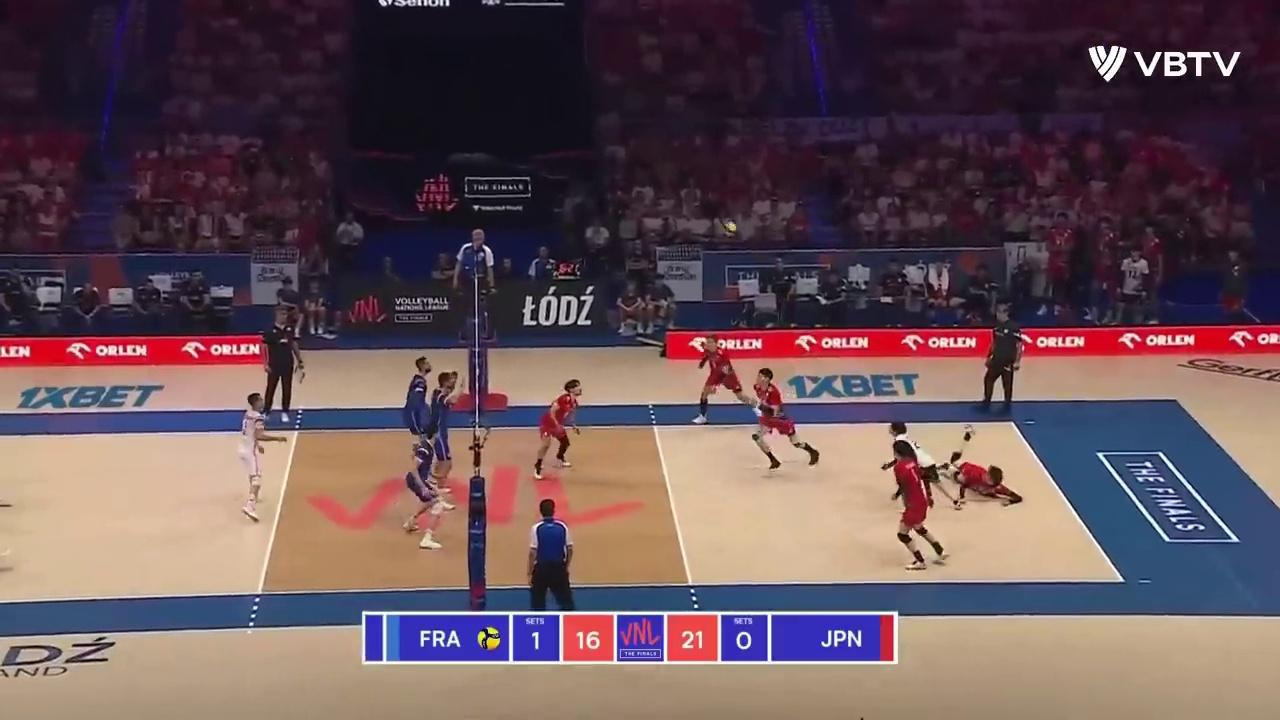ball: (722, 221, 736, 236)
